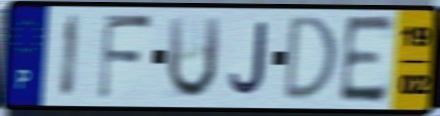D: (280, 14, 340, 105)
E: (337, 13, 397, 106)
F: (95, 11, 156, 103)
I: (58, 12, 83, 102)
J: (226, 20, 268, 98)
U: (164, 13, 223, 102)
